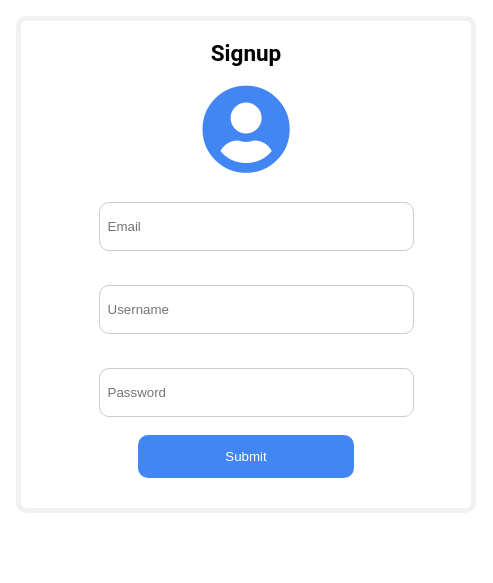
Test: Signup Page › on unsuccessful signup with 400 error and no error message returns else message
The image size is (493, 583).
Type "test@email.com" into the field with placeholder "Email".
click(256, 227); type("test@email.com")  # box [98,202,414,251]
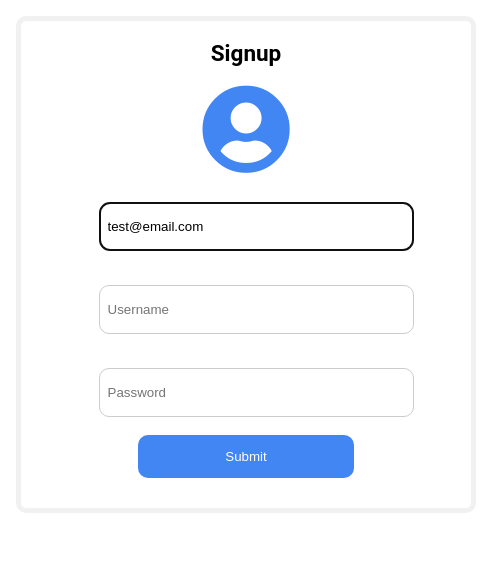
Type "TestUsername" into the field with placeholder "Username".
click(256, 310); type("TestUsername")  # box [98,285,414,334]
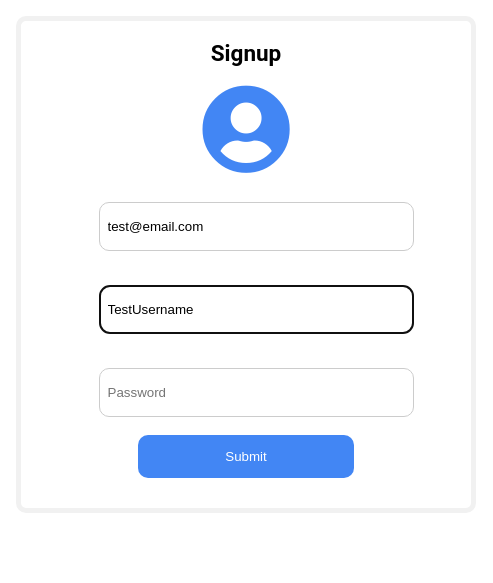
Type "1234" into the password field with placeholder "Password".
click(256, 393); type("1234")  # box [98,368,414,417]
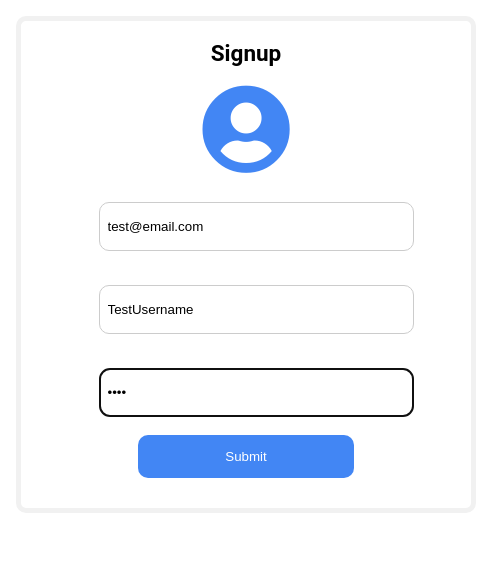
Click the button.
click(246, 457)  # box [138,435,354,478]
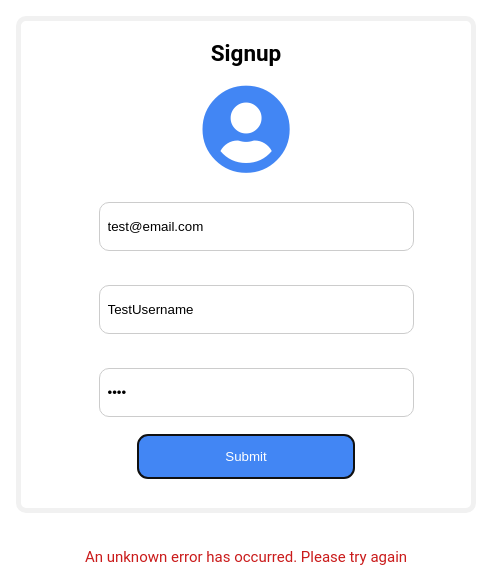
Check: the text "An unknown error has occurred. Please try again" is shown, box [85,548,407,566]
